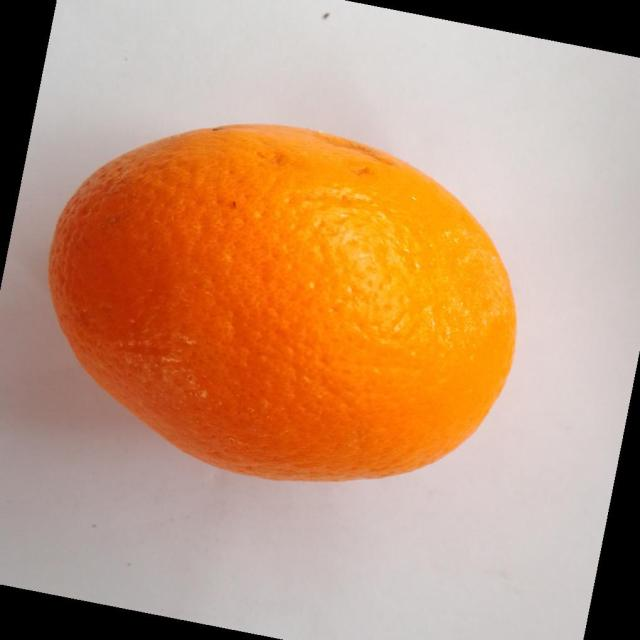fresh orange: (46, 122, 518, 483)
